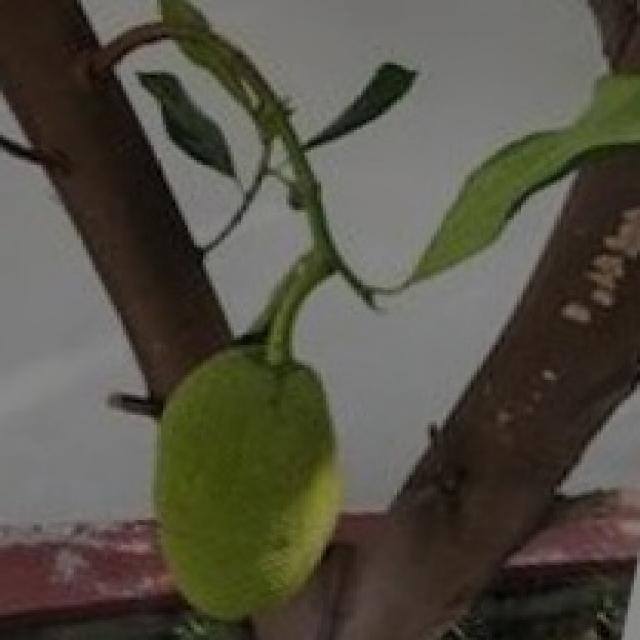Fruit: (101, 317, 381, 640)
